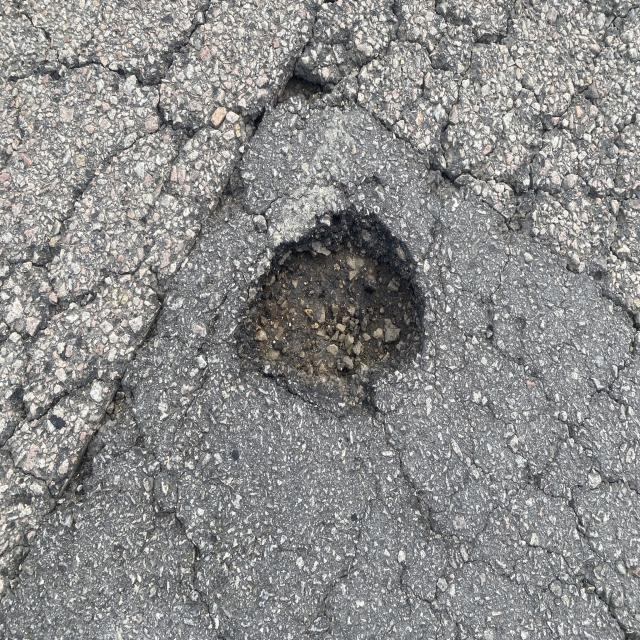pothole: (206, 48, 434, 468)
